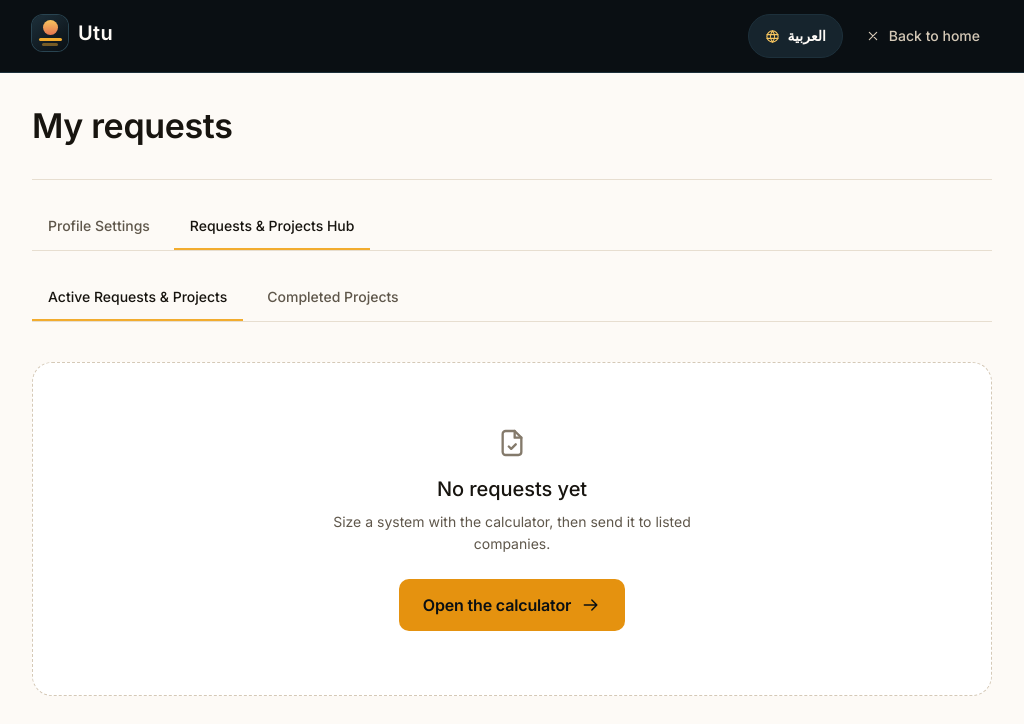
Test: MyRequestsPage client dashboard › shows profile and request hub tabs and saves client profile changes
This screenshot has width=1024, height=724.
Expected: the tab "Requests & Projects Hub" is shown, [174, 204, 370, 250]
Click the tab "Profile Settings": x=99, y=227 [32, 204, 166, 250]
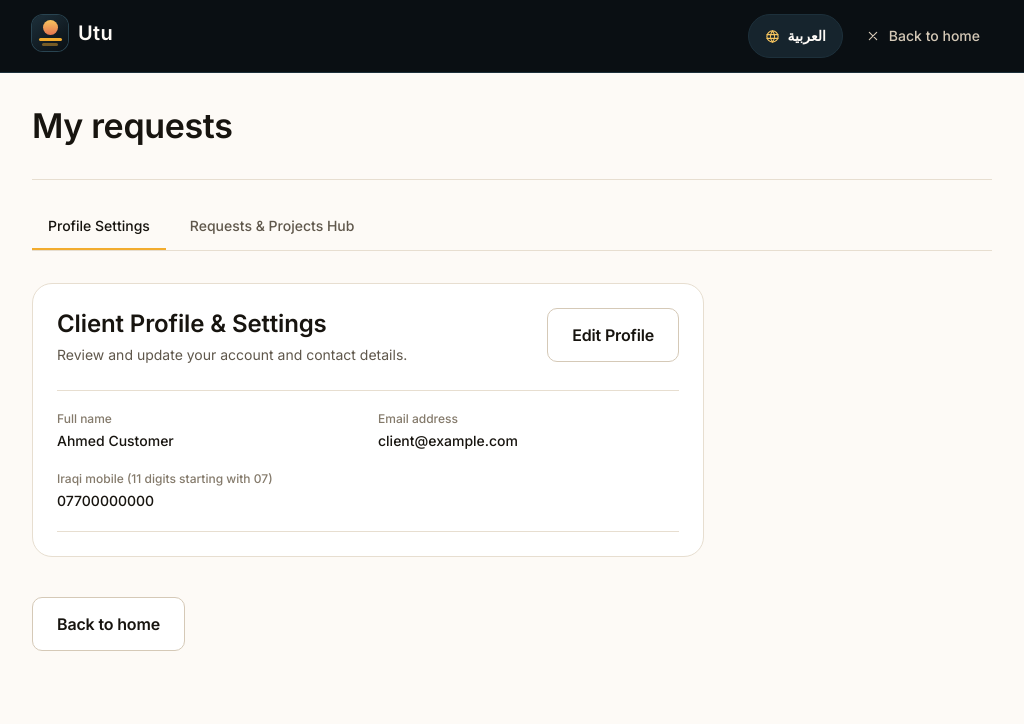
Result: the text "Ahmed Customer" is shown at [57, 432, 174, 449]
Result: the text "client@example.com" is shown at [378, 432, 518, 449]
Result: the text "07700000000" is shown at [57, 492, 154, 509]
Click the button "Edit Profile": x=613, y=335 [547, 308, 679, 362]
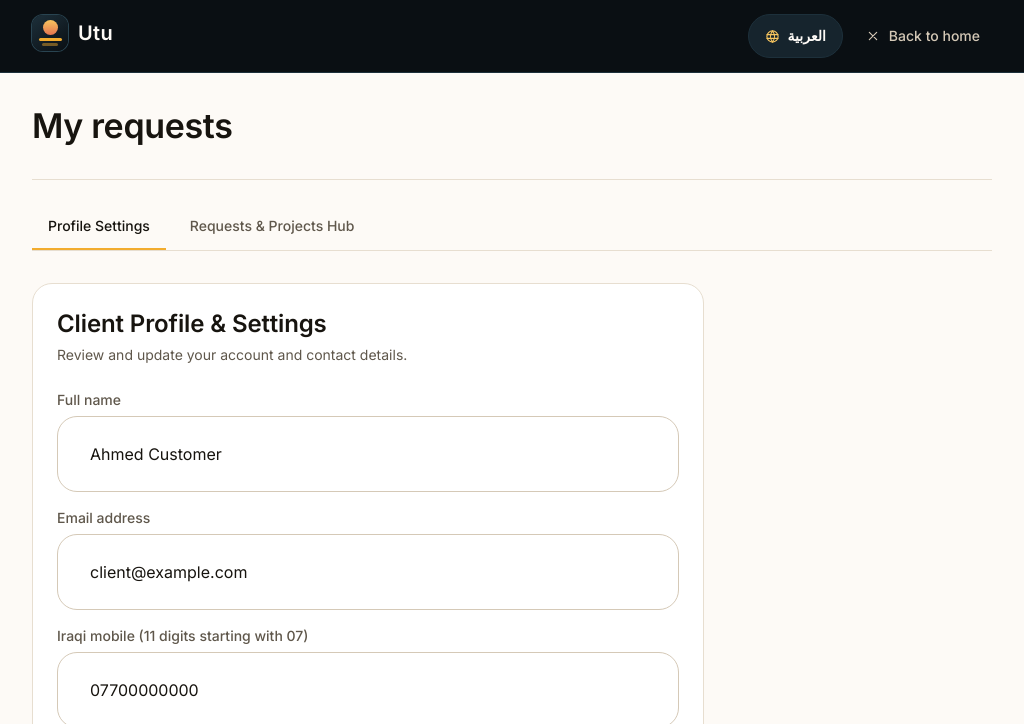
Replace the text in the field labelled "Full name" with "Ahmed Updated": x=368, y=454 [74, 429, 662, 479]
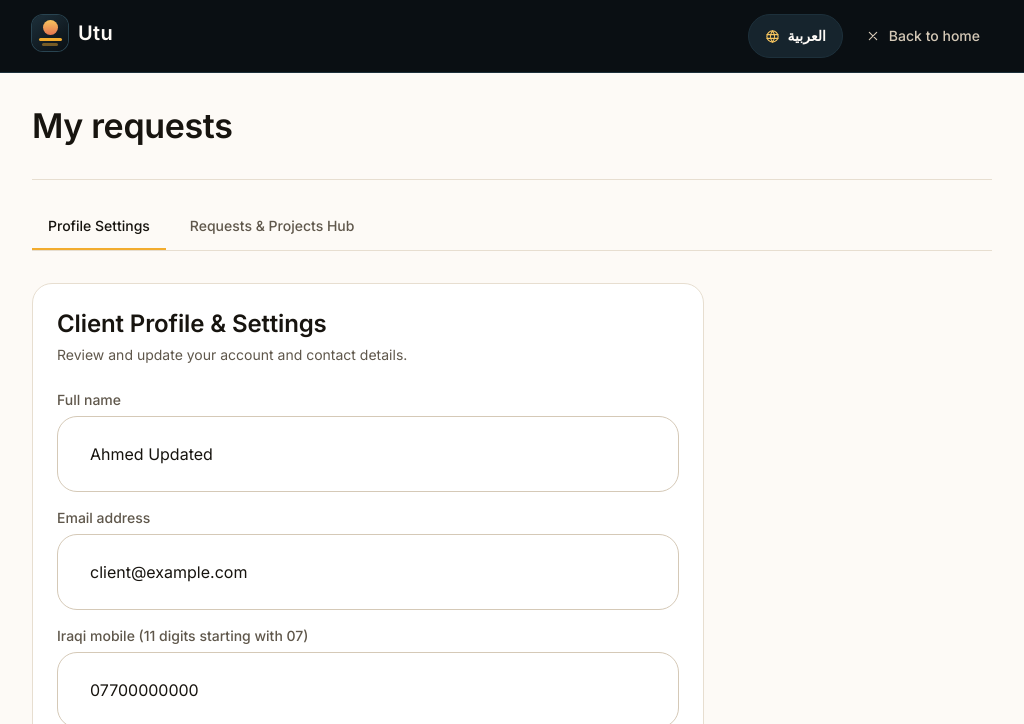
Replace the text in the field labelled "Email address" with "ahmed@example.com": x=368, y=572 [74, 547, 662, 597]
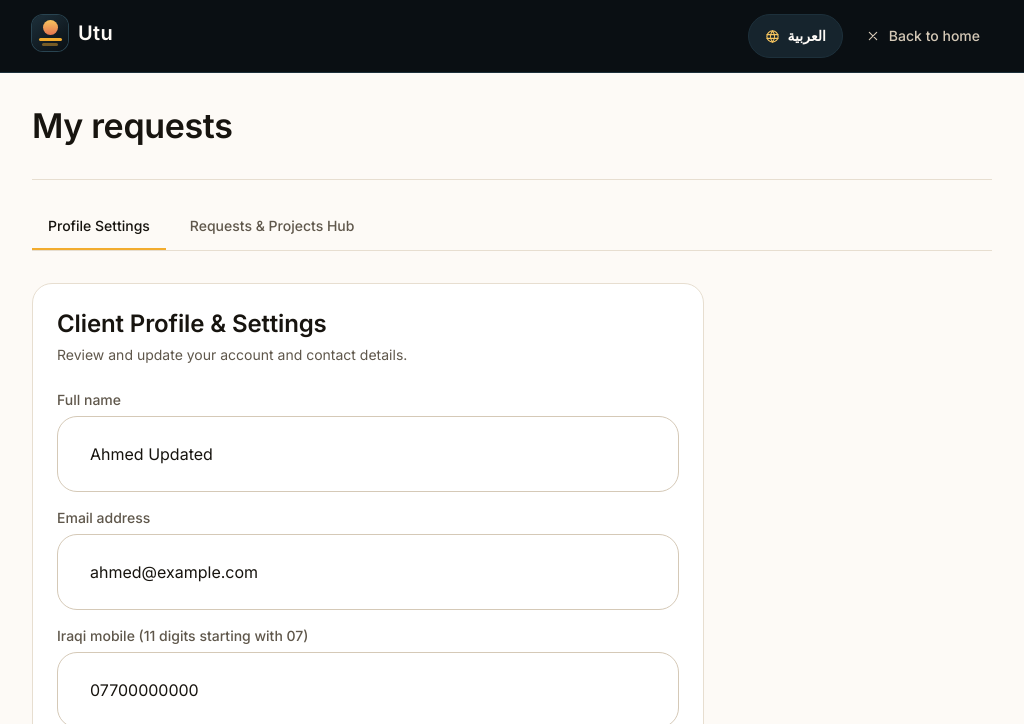
Replace the text in the field labelled "Iraqi mobile (11 digits starting with 07)" with "07711111111": x=368, y=690 [74, 665, 662, 715]
(page scrolled)
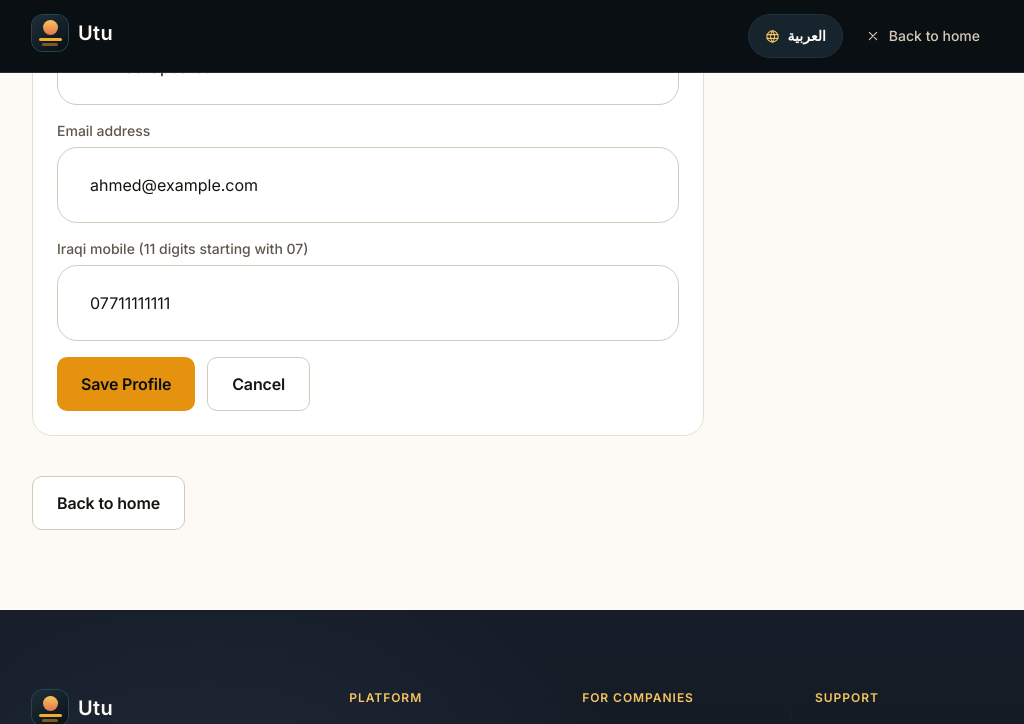
Click the button "Save Profile": x=126, y=384 [57, 357, 195, 411]
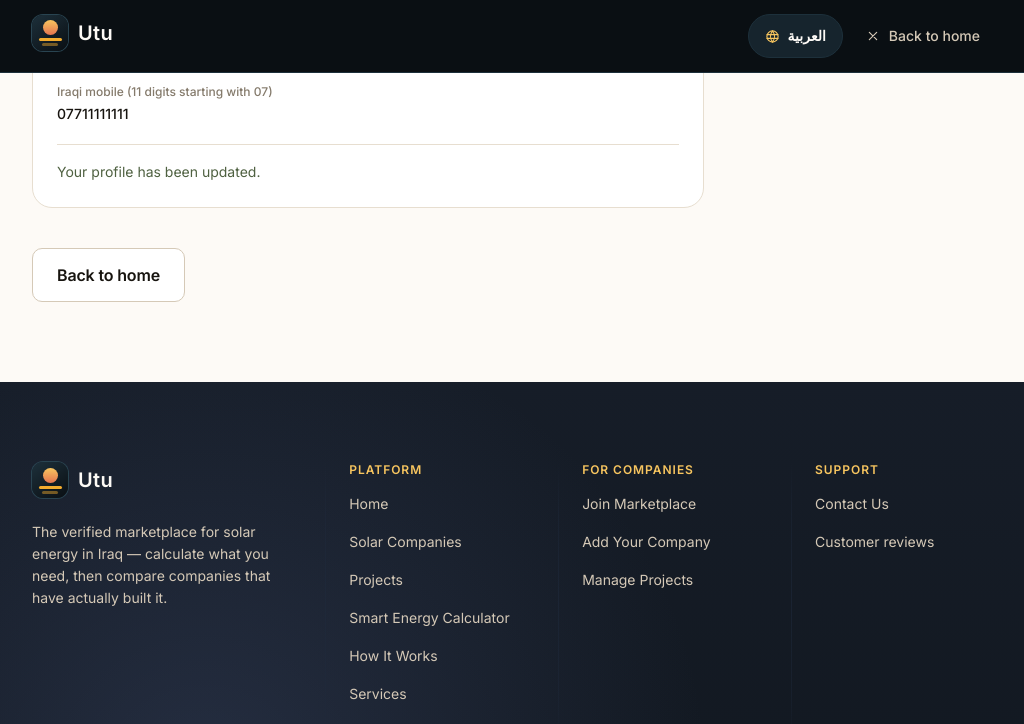
Expected: the text "Ahmed Updated" is shown, [57, 45, 166, 62]
Result: the text "Your profile has been updated." is shown at [57, 163, 260, 180]
